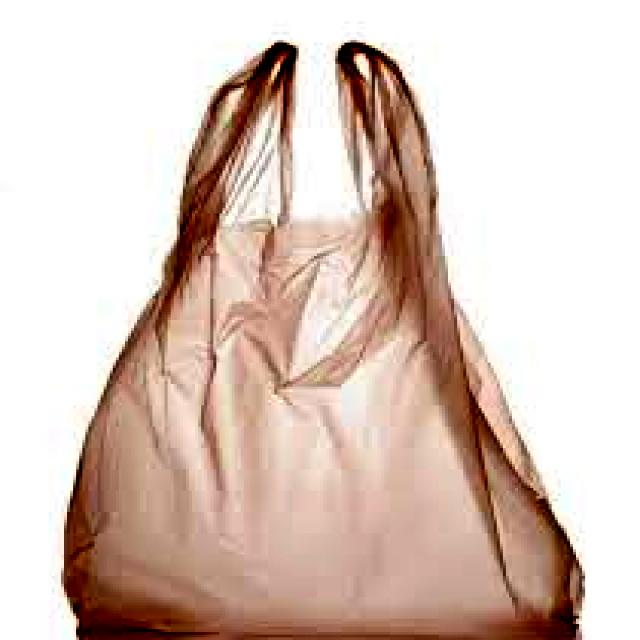plastic: (52, 32, 601, 640)
